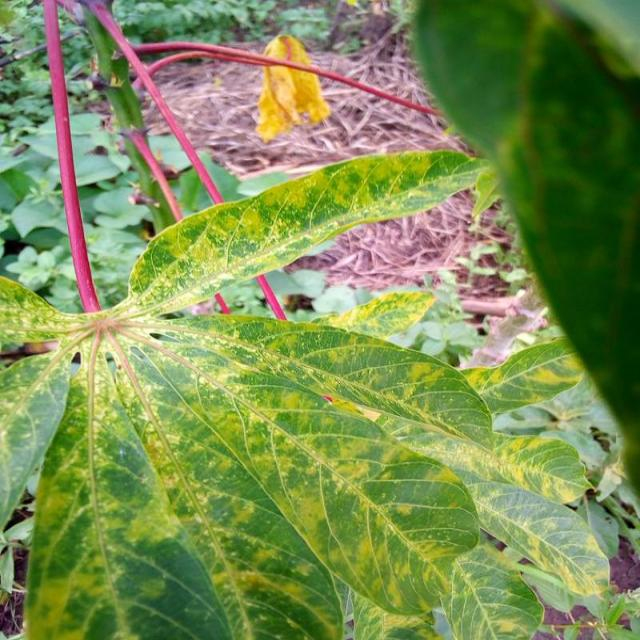cassava leaf: (1, 1, 621, 638), (126, 146, 499, 317)
